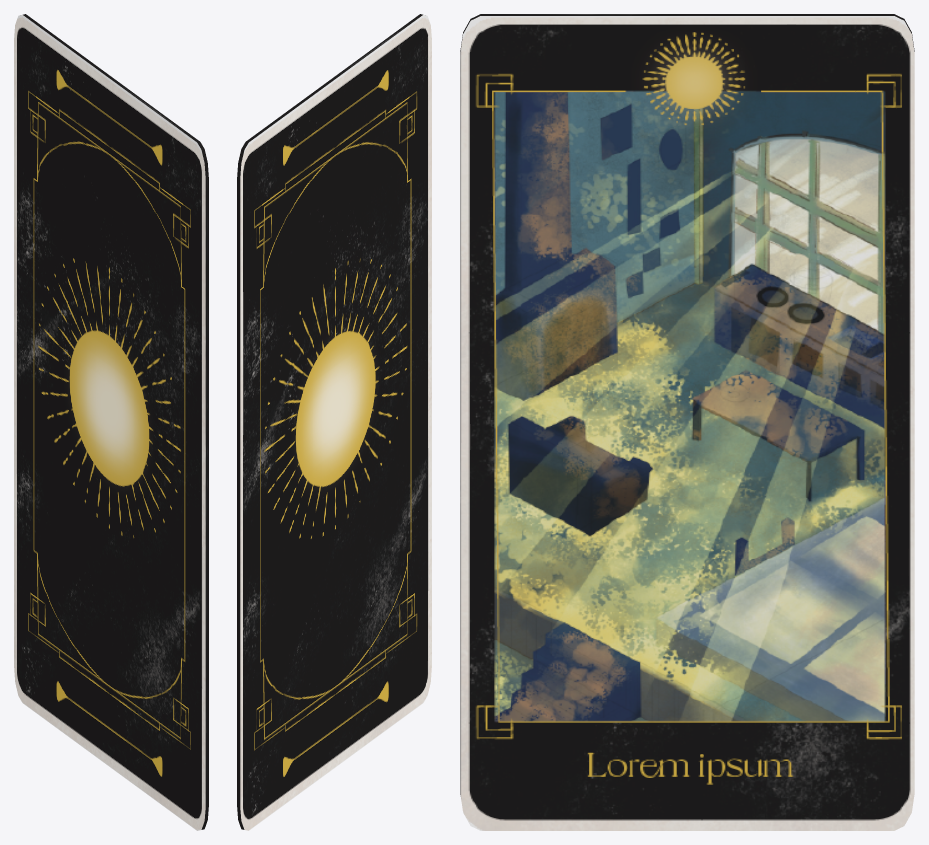
The model's file is carte_4.gltf.
3 views of the same model, side by side, from view 1: azimuth 30°, elevation 25°; view 2: azimuth 150°, elevation 25°; view 3: azimuth 270°, elevation 25° (orthographic). The views are drawn at different scales.
Visible parts, largest first — view 1: Cube.002; view 2: Cube.002; view 3: Cube.002.
Part boxes in pixels (box(x1,y1,x2,y2)): Cube.002: box(14, 14, 208, 830); Cube.002: box(237, 14, 431, 830); Cube.002: box(460, 14, 914, 830).
Size of the model in its own units: 0.0191 by 3.96 by 2.
Materials: 1 (1 with a texture image).
